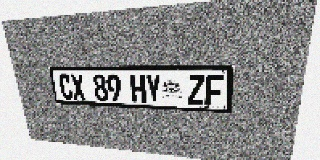8: (92, 74, 109, 101)
9: (106, 74, 122, 102)
C: (58, 74, 74, 100)
F: (205, 75, 224, 106)
H: (130, 74, 146, 103)
X: (70, 74, 86, 100)
Y: (145, 74, 162, 103)
Z: (188, 75, 205, 105)
